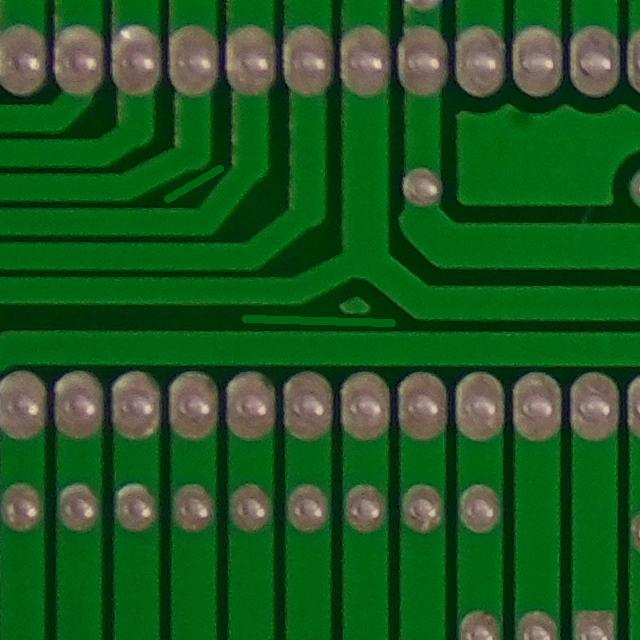spurious_copper: (235, 297, 406, 344)
